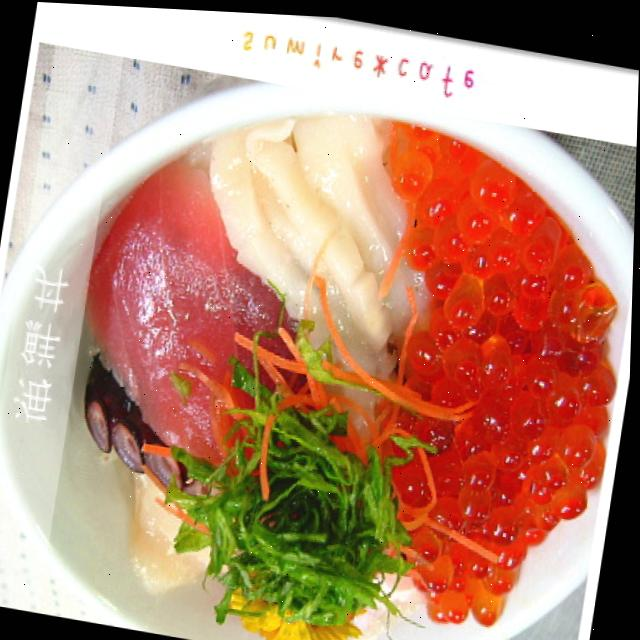刺身生食: (41, 52, 639, 640)
